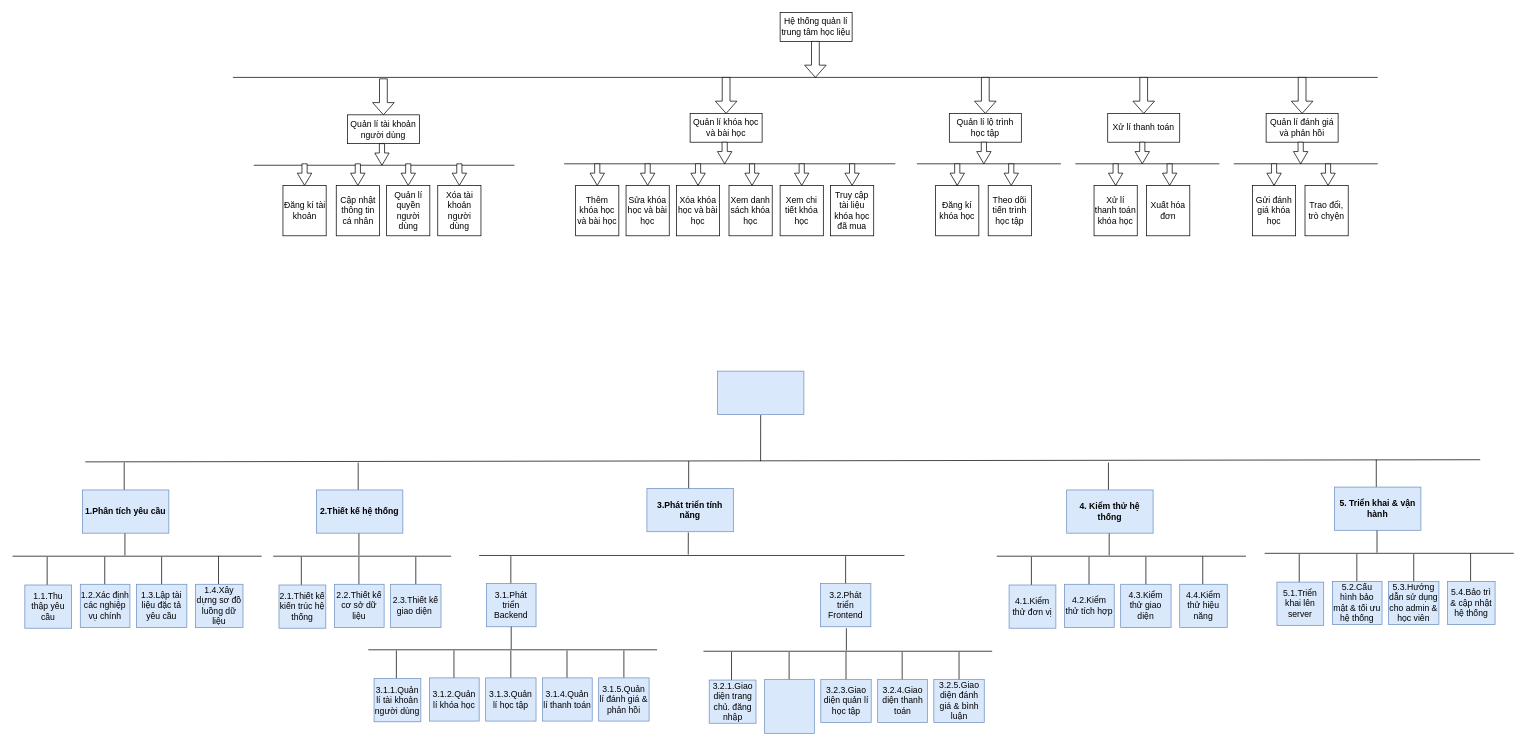
Some shapes in this 1527 by 746 pixel diagram are drawn without their labels. The centre of each missing label's shape, as x and y in pixels:
"3.2.2.Giao diện danh sách & chi tiết khóa học" goes at point 789,706.
"Website quản lí trung tâm học liệu" goes at point 760,392.
